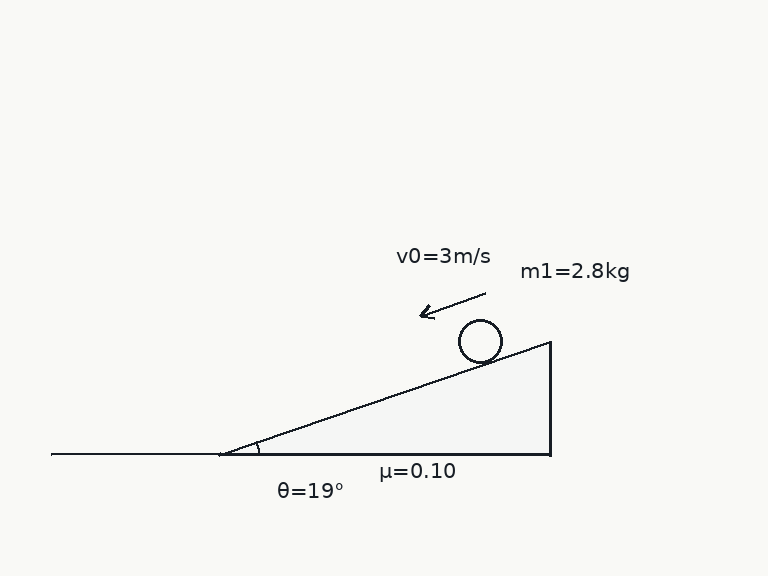ball: (456, 317, 504, 365)
ramp: (217, 338, 551, 456)
